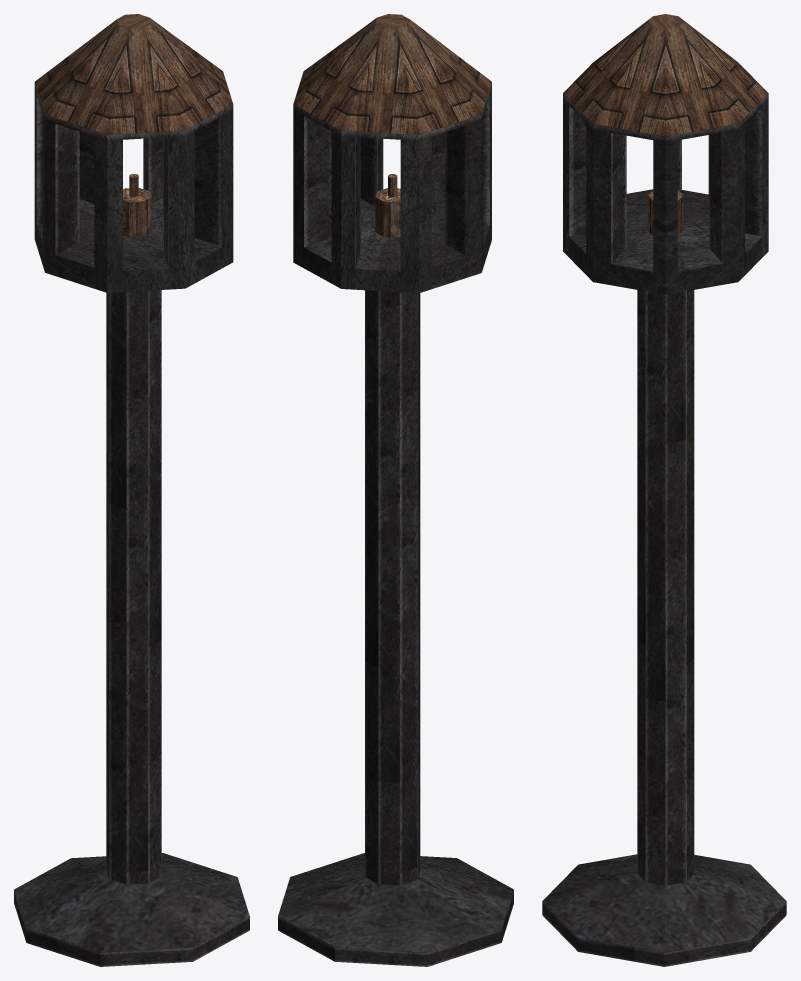
The model's file is v3_lamp.dae.
3 views of the same model, side by side, from view 1: azimuth 30°, elevation 25°; view 2: azimuth 150°, elevation 25°; view 3: azimuth 270°, elevation 25° (orthographic).
Parts seen in each view (by area): view 1: Material; view 2: Material; view 3: Material.
Part boxes in pixels (x1,y1,x2,y2): Material: (14,14,249,966); Material: (278,14,513,966); Material: (542,14,786,966).
Size of the model in its own units: 0.2507 by 1.01 by 0.2507.
